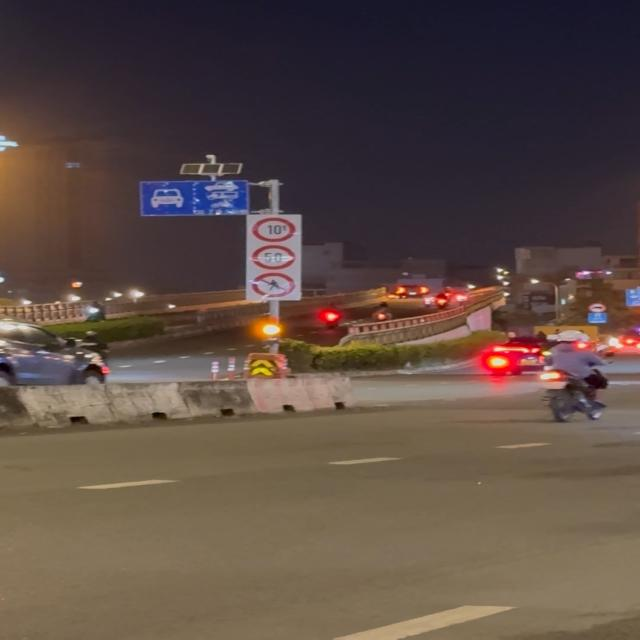Bien bao cam nguoi di bo: (250, 271, 295, 298)
Bien bao toc do toi da cho phep: (250, 243, 298, 271)
